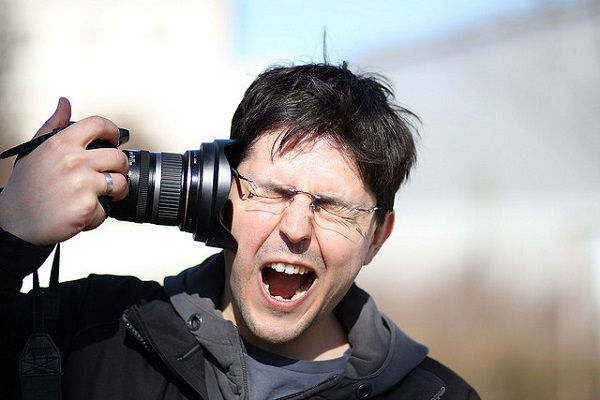human: (1, 62, 486, 400)
